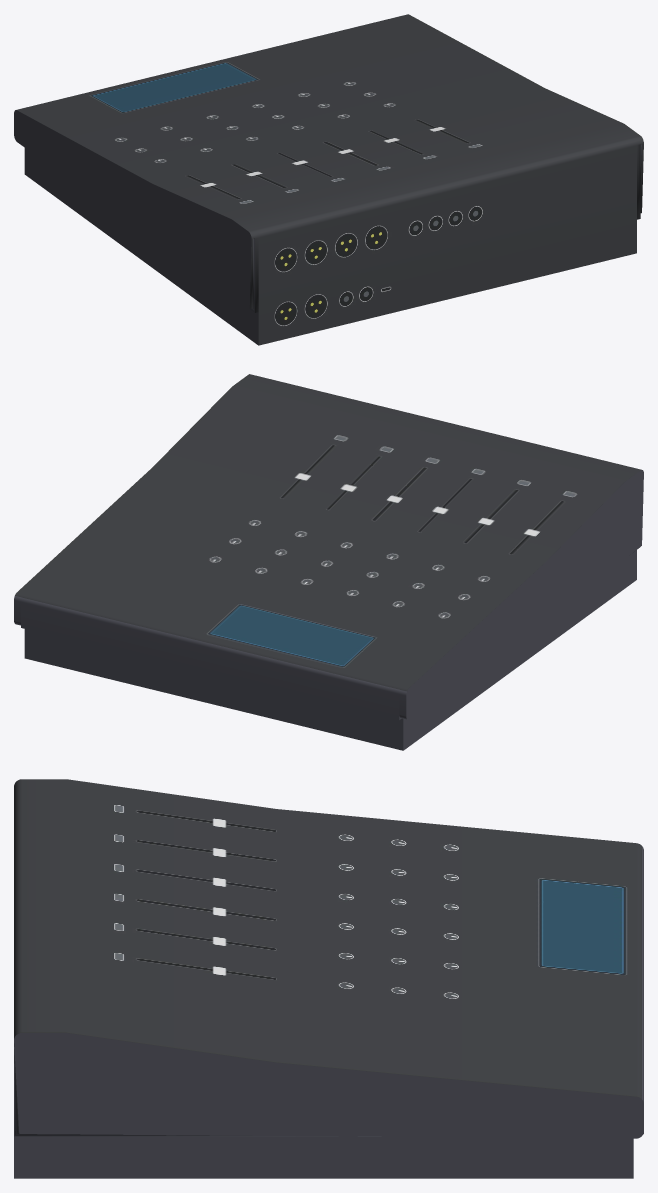
File: tascam-model-12.glb
The picture shows the model from 3 angles, top to bottom: view 1: azimuth 30°, elevation 25°; view 2: azimuth 150°, elevation 25°; view 3: azimuth 270°, elevation 25°; orthographic projection. The views are drawn at different scales.
Visible parts, largest first — view 1: tascam-model-12-body; view 2: tascam-model-12-body; view 3: tascam-model-12-body.
Boxes of the visible parts, x1,y1,x2,y2 form: tascam-model-12-body: (14, 14, 643, 345); tascam-model-12-body: (14, 374, 643, 750); tascam-model-12-body: (14, 779, 643, 1178).
Size of the model in its own units: 0.343 by 0.0988 by 0.36.
1 material, 1 textured.
